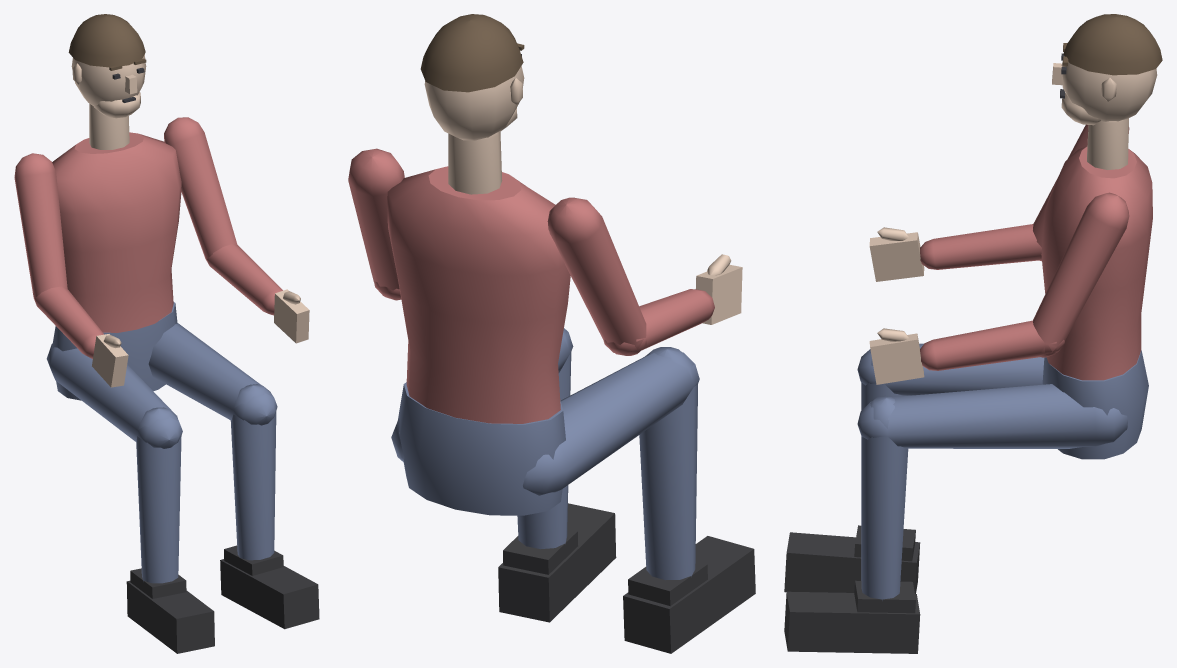
File: PassengerSeated.glb
3 views of the same model, side by side, from view 1: azimuth 30°, elevation 25°; view 2: azimuth 150°, elevation 25°; view 3: azimuth 270°, elevation 25° (orthographic). The views are drawn at different scales.
Visible parts, largest first — view 1: Seated; view 2: Seated; view 3: Seated.
Boxes of the visible parts, x1,y1,x2,y2 form: Seated: (14, 14, 319, 653); Seated: (348, 14, 755, 653); Seated: (784, 14, 1162, 653).
Bounding box in the file's own units: 0.5533 × 1.34 × 0.7655.
